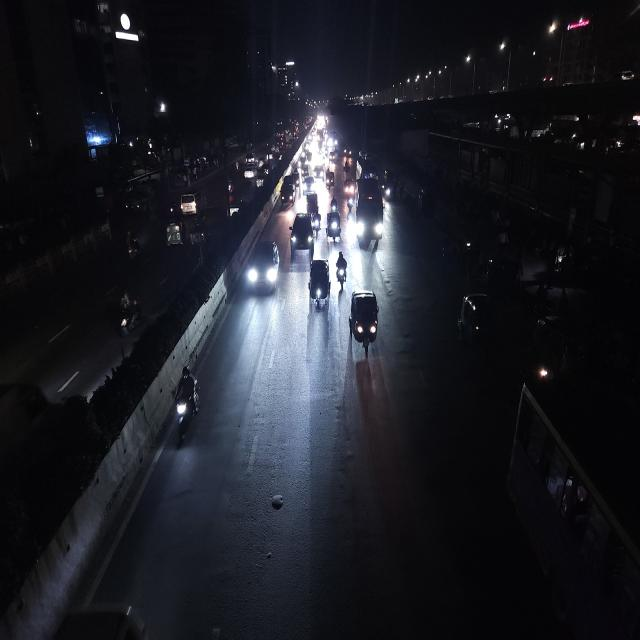bus: (505, 372, 640, 640), (354, 174, 385, 252)
car: (245, 235, 281, 298), (309, 254, 331, 316), (288, 211, 314, 256), (177, 188, 200, 218), (227, 192, 245, 222), (255, 167, 268, 188), (303, 174, 315, 194), (244, 164, 255, 180), (313, 164, 324, 180)
cng: (346, 287, 384, 357), (459, 292, 499, 351), (308, 252, 331, 314), (163, 211, 186, 254), (326, 210, 342, 244), (325, 172, 336, 190), (327, 150, 337, 167)
motorcycle: (172, 364, 202, 443), (115, 286, 143, 343), (123, 228, 142, 269), (336, 248, 348, 291), (312, 208, 321, 238), (346, 194, 355, 216)
rickshaw: (342, 162, 351, 175)
truck: (280, 176, 296, 206)
